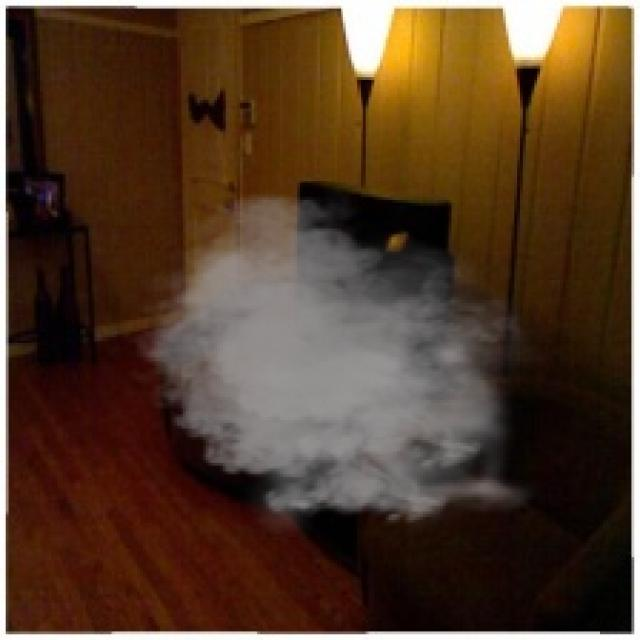smoke: (123, 183, 546, 540)
